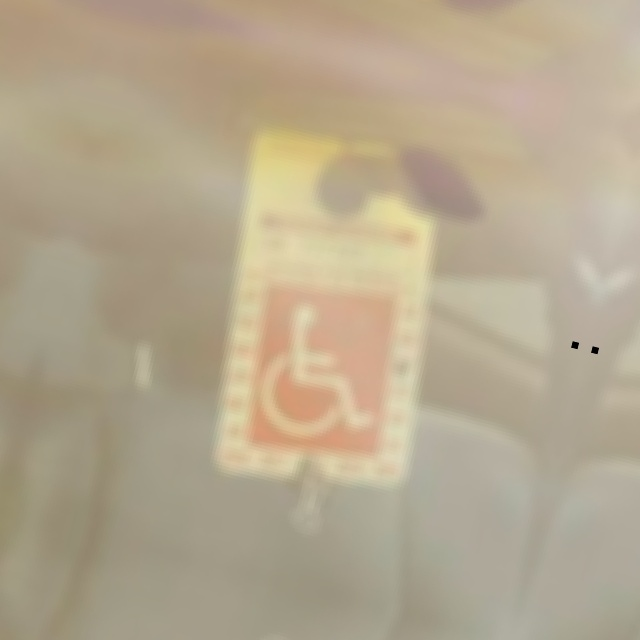ISA: (249, 296, 397, 451)
